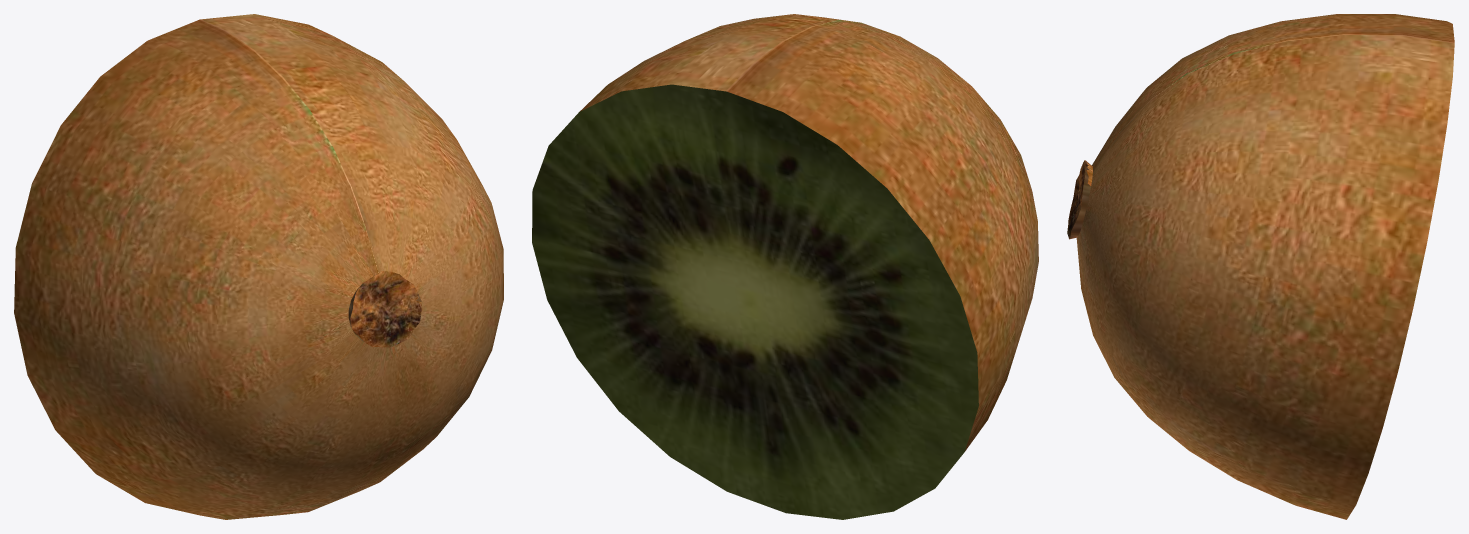
The model's file is kiwi_half.obj.
3 renders of one model, left to right at view 1: azimuth 30°, elevation 25°; view 2: azimuth 150°, elevation 25°; view 3: azimuth 270°, elevation 25°, orthographic. The views are drawn at different scales.
Parts seen in each view (by area): view 1: Kiwi02, Kiwi_Top02; view 2: Kiwi_Half02, Kiwi02; view 3: Kiwi02, Kiwi_Top02, Kiwi_Top_Side02.
Boxes of the visible parts, x1=… form: Kiwi02: x1=14, y1=14, x2=503, y2=519; Kiwi_Top02: x1=350, y1=271, x2=421, y2=347; Kiwi_Half02: x1=532, y1=84, x2=978, y2=519; Kiwi02: x1=579, y1=14, x2=1038, y2=451; Kiwi02: x1=1076, y1=14, x2=1454, y2=519; Kiwi_Top02: x1=1067, y1=160, x2=1092, y2=238; Kiwi_Top_Side02: x1=1069, y1=160, x2=1090, y2=239.
Bounding box in the file's own units: 1.31 × 1.33 × 1.01.
